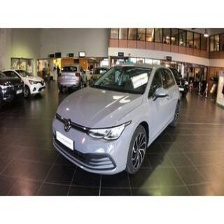car: (42, 59, 187, 177)
